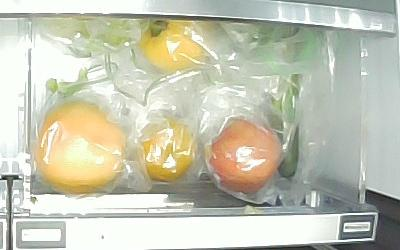apple_vinyl: (207, 116, 285, 194)
cucumber_vinyl: (268, 24, 300, 182)
grapefruit_vinyl: (36, 99, 130, 194)
paprika_vinyl: (138, 20, 207, 70)
persimmon_vinyl: (136, 117, 198, 183)
